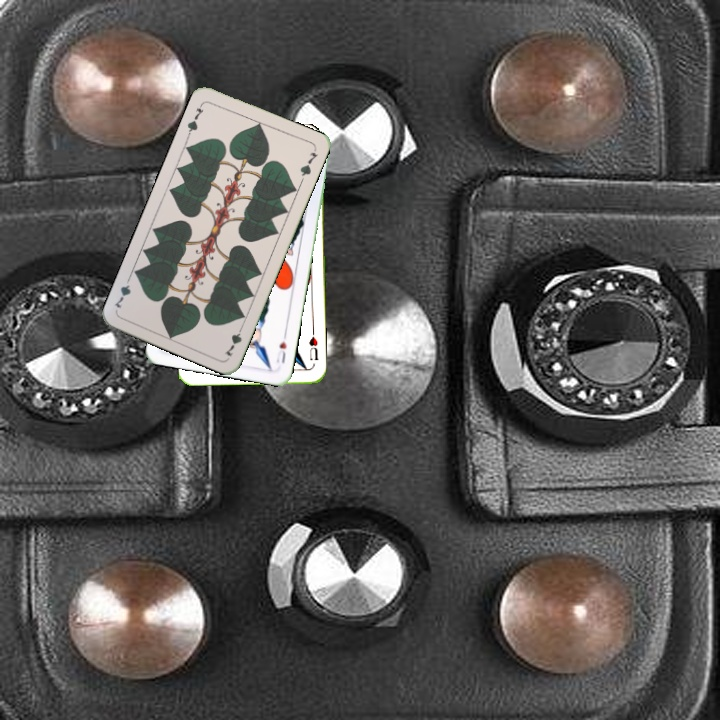G7: (220, 321, 246, 359), (183, 99, 206, 138)
HU: (272, 329, 289, 366), (305, 327, 320, 362)
